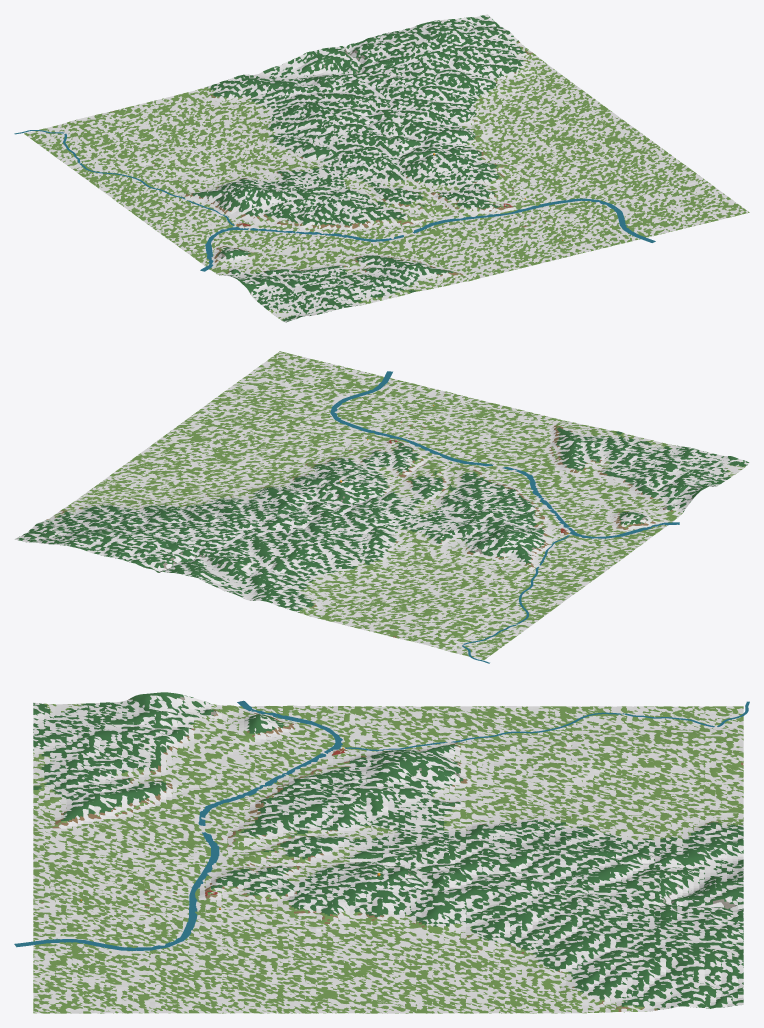
Rendered from Bratislava_Real_Terrain_Godot4.glb.
3 views of the same model, one above another, from view 1: azimuth 30°, elevation 25°; view 2: azimuth 150°, elevation 25°; view 3: azimuth 270°, elevation 25° (orthographic). The views are drawn at different scales.
Parts seen in each view (by area): view 1: Terrain, Terrain-col, Danube_OSM; view 2: Terrain-col, Terrain, Danube_OSM; view 3: Terrain, Terrain-col, Danube_OSM, Morava_OSM.
Part boxes in pixels (x1,y1,x2,y2): Terrain: [24, 15, 749, 322]; Terrain-col: [27, 14, 747, 322]; Danube_OSM: [200, 198, 655, 271]; Terrain-col: [14, 352, 749, 659]; Terrain: [17, 351, 748, 659]; Danube_OSM: [330, 371, 679, 538]; Terrain: [33, 692, 743, 1013]; Terrain-col: [33, 695, 743, 1013]; Danube_OSM: [14, 700, 342, 950]; Morava_OSM: [333, 701, 749, 751].
Bounding box in the file's own units: 19640 × 589 × 19574.
